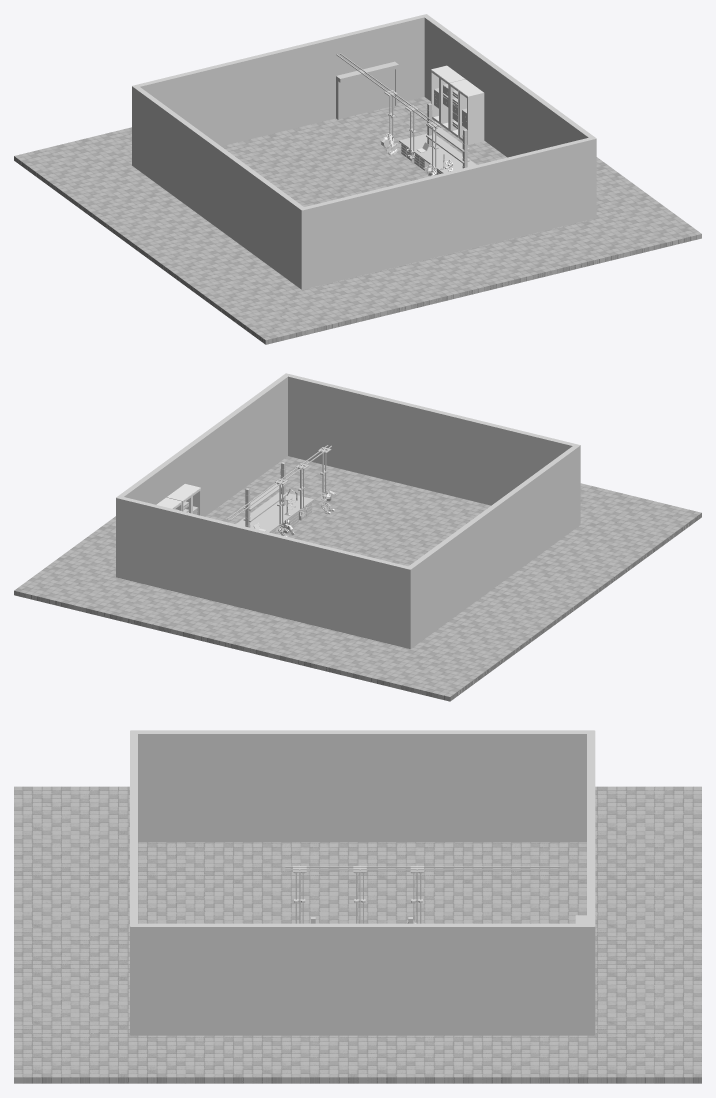
Rendered from taller.gltf.
3 views of the same model, one above another, from view 1: azimuth 30°, elevation 25°; view 2: azimuth 150°, elevation 25°; view 3: azimuth 270°, elevation 25° (orthographic). The views are drawn at different scales.
Visible parts, largest first — view 1: Cube.039, Cube.132, Cube.127, Cube.142, Cube.126, Cube.140, Cube.045, Cube.066, Cube.105; view 2: Cube.039, Cube.127, Cube.132, Cube.142, Cube.126, Cube.045; view 3: Cube.039, Cube.126, Cube.142, Cube.127, Cube.132, Cube.129, Cube.128.
Part boxes in pixels (box(x1,y1,x2,y2)): Cube.039: box(14, 97, 701, 344); Cube.132: box(300, 137, 596, 289); Cube.127: box(132, 14, 428, 146); Cube.142: box(132, 86, 306, 289); Cube.126: box(422, 14, 596, 157); Cube.140: box(336, 61, 398, 119); Cube.045: box(399, 103, 476, 174); Cube.066: box(459, 86, 484, 144); Cube.105: box(440, 72, 464, 130); Cube.039: box(14, 456, 701, 701); Cube.127: box(116, 496, 411, 648); Cube.132: box(283, 373, 580, 505); Cube.142: box(407, 444, 580, 648); Cube.126: box(116, 373, 290, 516); Cube.045: box(236, 462, 313, 533); Cube.039: box(14, 786, 701, 1083); Cube.126: box(130, 923, 594, 1035); Cube.142: box(130, 730, 594, 842); Cube.127: box(587, 730, 595, 1034); Cube.132: box(130, 730, 137, 1035); Cube.129: box(285, 869, 560, 870); Cube.128: box(285, 866, 560, 867).
Size of the model in its own units: 120 by 22.17 by 120.
10 materials, 1 textured.
